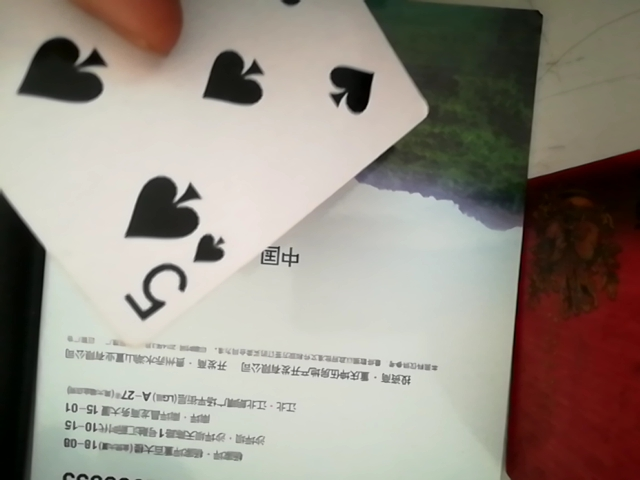ht 5: (14, 4, 439, 345)
